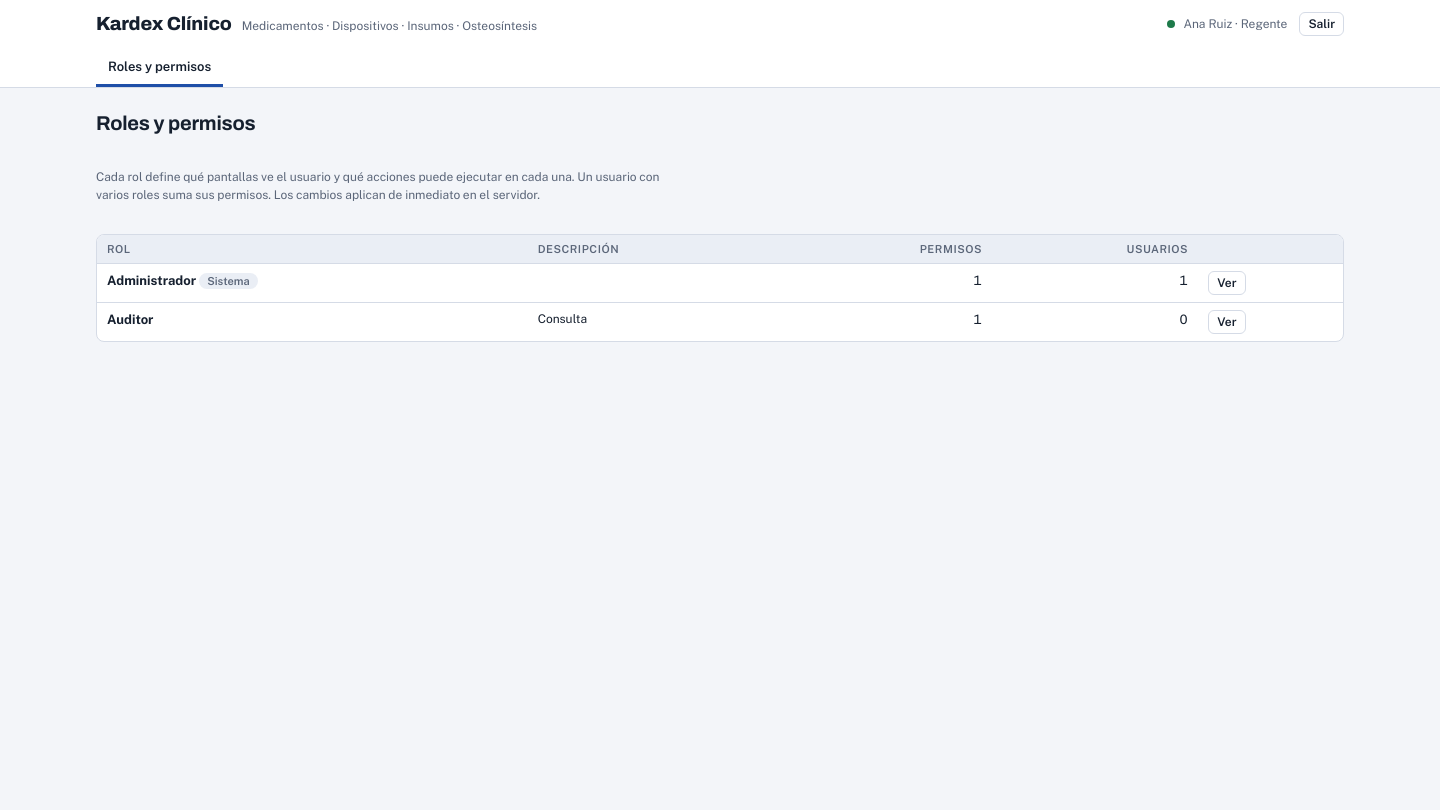
Scenario: roles y matriz de permisos › con solo ver, la matriz es de lectura
Check: the text "Auditor" is shown, box 107,312 -> 154,326
Click the button "Ver" in the row of "Auditor". click: {"x": 1227, "y": 322}
box: 1208,310 -> 1246,334
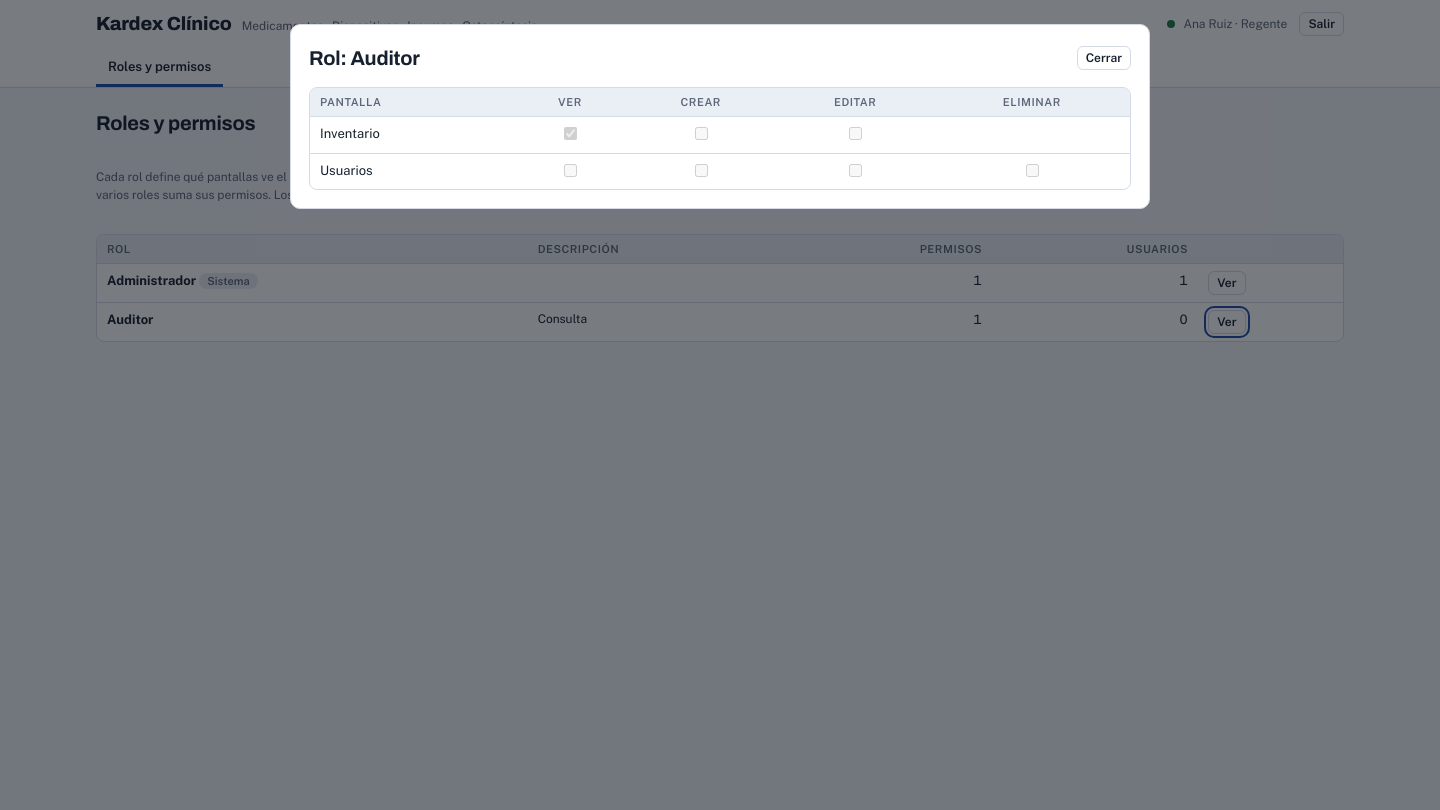
Check: the checkbox named "Inventario: Ver" is disabled, box 564,127 -> 577,140
